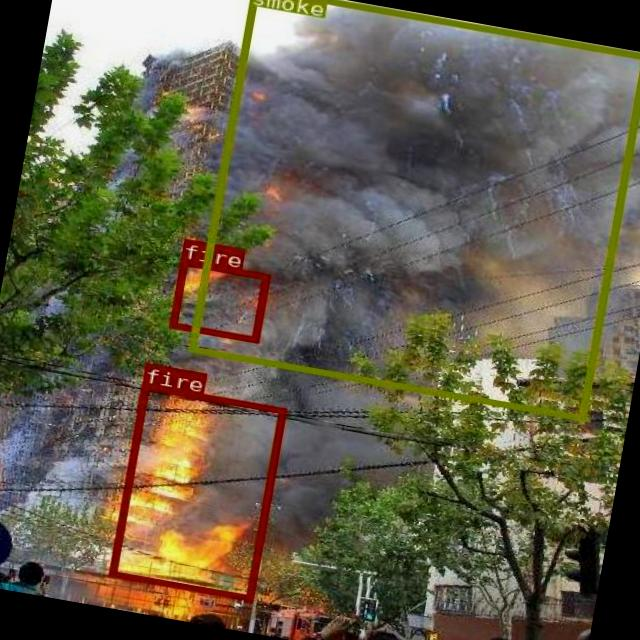fire: (107, 382, 286, 600), (168, 258, 268, 340)
smoke: (187, 0, 640, 419)
